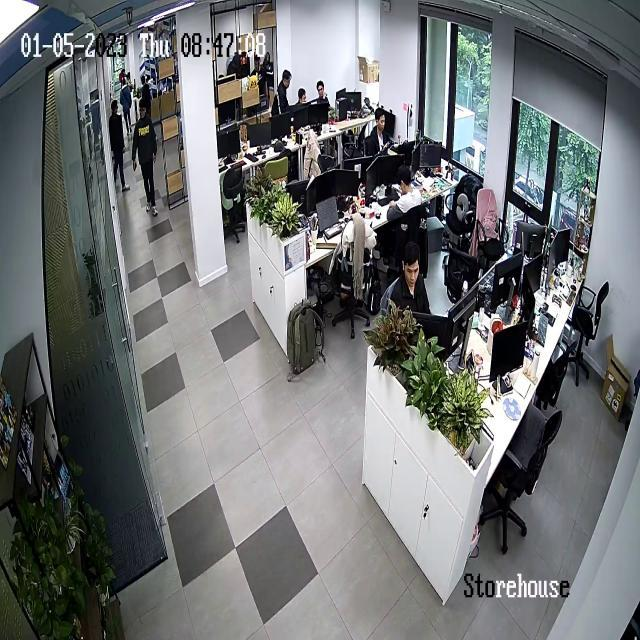person: (132, 98, 159, 216), (390, 243, 430, 312), (109, 99, 130, 193), (389, 165, 426, 218), (366, 109, 391, 161), (272, 68, 294, 116), (315, 79, 332, 105), (298, 85, 309, 105)
